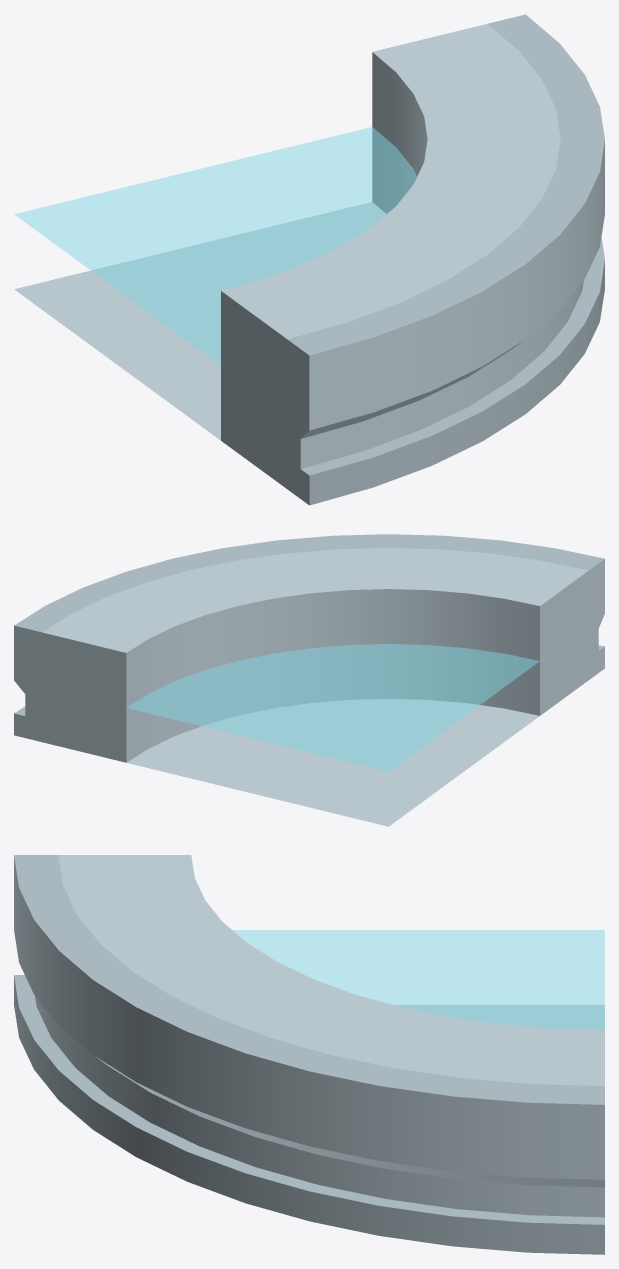
The model's file is fountainCurved.glb.
The picture shows the model from 3 angles, top to bottom: view 1: azimuth 30°, elevation 25°; view 2: azimuth 150°, elevation 25°; view 3: azimuth 270°, elevation 25°; orthographic projection. The views are drawn at different scales.
Parts seen in each view (by area): view 1: fountainCurved; view 2: fountainCurved; view 3: fountainCurved.
Part boxes in pixels (left/top/right/bottom): fountainCurved: left=14, top=14, right=604, bottom=505; fountainCurved: left=14, top=534, right=604, bottom=826; fountainCurved: left=14, top=855, right=604, bottom=1254.
Bounding box in the file's own units: 1 × 0.28 × 1.
